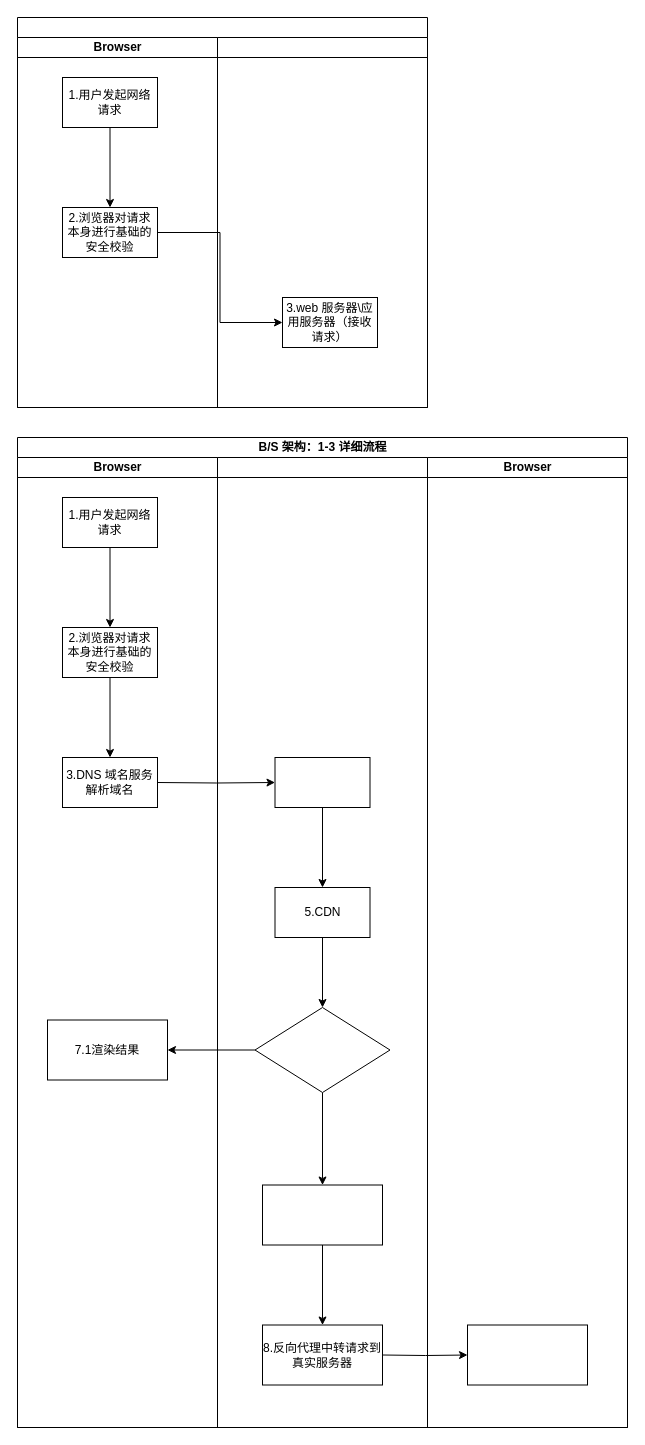
This 645x1445 diagram has some shape labels left out. Here are the shapes that lost their labels. From the top down, the box of each, then its label:
(16, 16, 428, 408): B/S 架构处理请求流程-1
(216, 36, 428, 408): Client
(274, 756, 370, 808): 4.请求来到负载均衡
(216, 456, 428, 1428): Network
(254, 1006, 390, 1092): 6.CDN 中是否有符合请求的结果
(262, 1184, 382, 1245): 7.2 请求转发到服务器
(466, 1324, 588, 1385): 9.服务器收到请求
